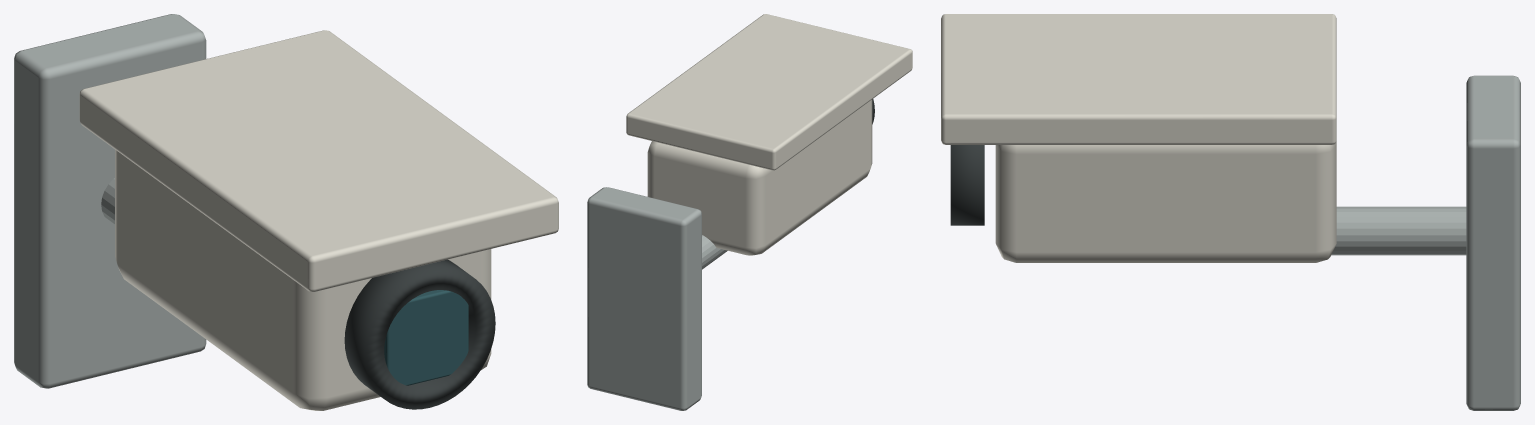
Rendered from automated-parking-and-vehicle-retrieval-automated-park-5a47bf34__30378.glb.
3 views of the same model, side by side, from view 1: azimuth 30°, elevation 25°; view 2: azimuth 150°, elevation 25°; view 3: azimuth 270°, elevation 25° (orthographic). The views are drawn at different scales.
Visible parts, largest first — view 1: automated-parking-and-vehicle-retrieval-service-camera-brack (×4); view 2: automated-parking-and-vehicle-retrieval-service-camera-brack (×2); view 3: automated-parking-and-vehicle-retrieval-service-camera-brack (×3).
Boxes of the visible parts, x1,y1,x2,y2 form: automated-parking-and-vehicle-retrieval-service-camera-brack (×4): (14,14,558,410); automated-parking-and-vehicle-retrieval-service-camera-brack (×2): (587,14,912,410); automated-parking-and-vehicle-retrieval-service-camera-brack (×3): (941,14,1520,410).
Bounding box in the file's own units: 0.18 × 0.255 × 0.425.
